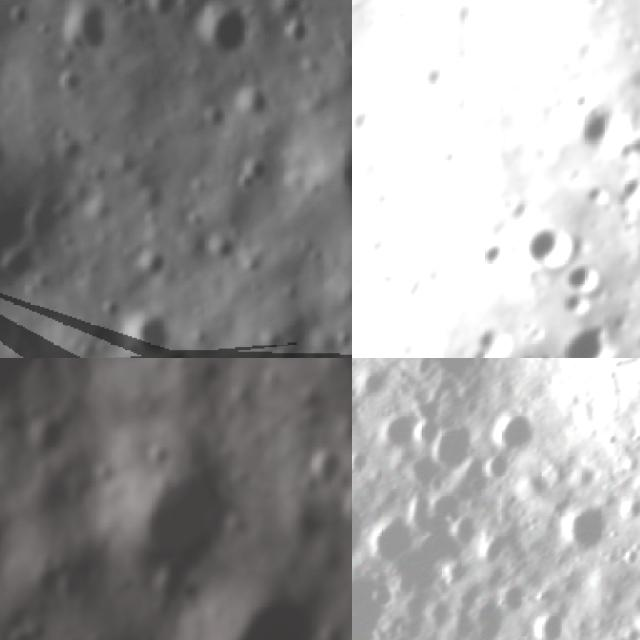crater: (131, 444, 238, 586), (546, 481, 632, 569), (354, 495, 432, 570), (352, 550, 414, 640), (181, 0, 259, 68), (451, 578, 529, 640), (481, 397, 552, 464), (423, 412, 488, 481), (214, 600, 323, 640), (368, 394, 430, 460), (352, 475, 391, 572), (53, 0, 110, 62), (572, 101, 634, 156), (524, 589, 590, 640), (469, 438, 526, 497), (559, 312, 622, 358), (526, 219, 578, 273), (444, 503, 494, 559), (469, 518, 518, 574), (473, 319, 526, 358), (129, 315, 175, 358), (304, 443, 344, 492), (563, 256, 609, 295), (471, 238, 516, 276), (0, 617, 54, 640), (619, 127, 640, 167), (0, 513, 13, 564), (342, 483, 352, 540)
